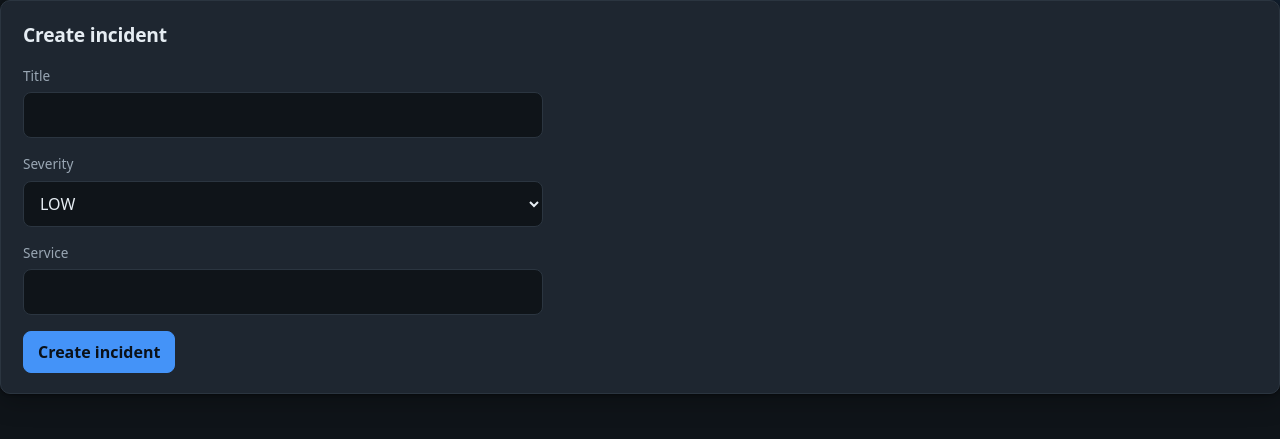
Scenario: CreateIncidentPage › surfaces a server 422 validation error on the named field
Type "valid title" into the field labelled "Title" at [283, 115], box [23,92,543,138]
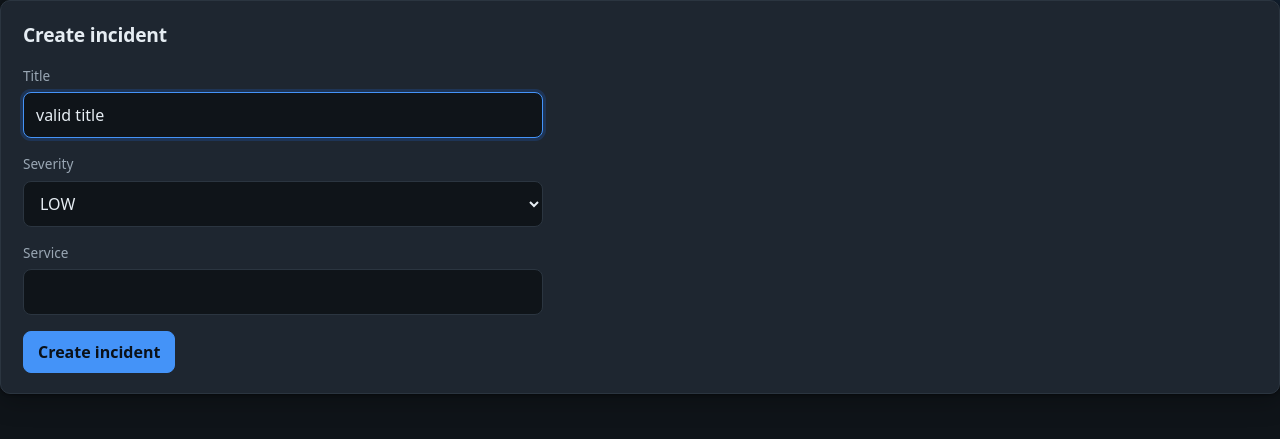
Click the button "Create incident" at [99, 352], box [23,331,175,373]
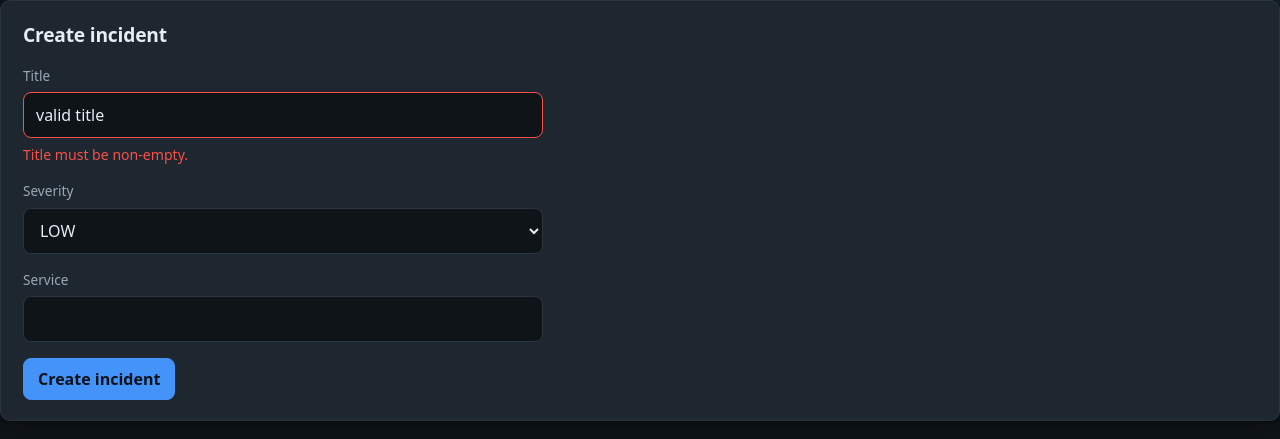
Check: the text "Title must be non-empty." is shown, box [23,145,188,164]
